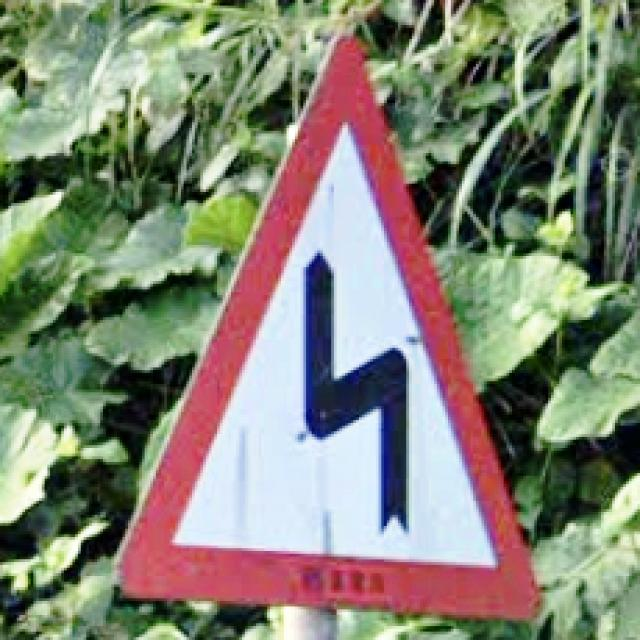doublebendleft: (117, 36, 540, 626)
